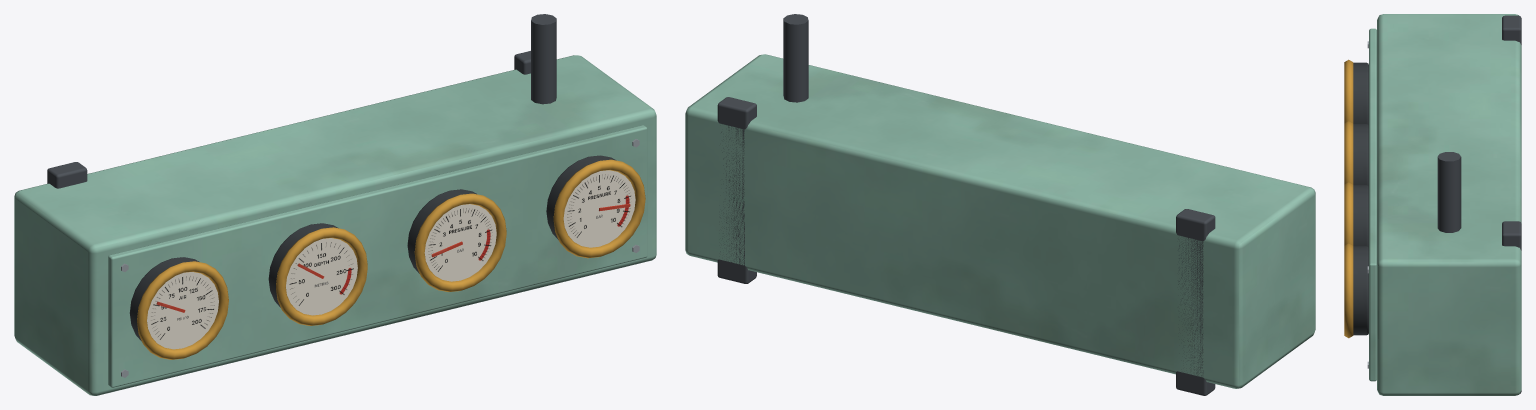
File: WallBox_90_1.glb
3 renders of one model, left to right at view 1: azimuth 30°, elevation 25°; view 2: azimuth 150°, elevation 25°; view 3: azimuth 270°, elevation 25°, orthographic. The views are drawn at different scales.
Visible parts, largest first — view 1: WallBox_90_1_Body; view 2: WallBox_90_1_Body; view 3: WallBox_90_1_Body.
Part boxes in pixels (x1,y1,x2,y2): WallBox_90_1_Body: (14, 14, 656, 395); WallBox_90_1_Body: (685, 14, 1315, 395); WallBox_90_1_Body: (1344, 14, 1521, 395).
Size of the model in its own units: 0.9 by 0.37 by 0.2698.
Materials: 9 (6 with a texture image).
